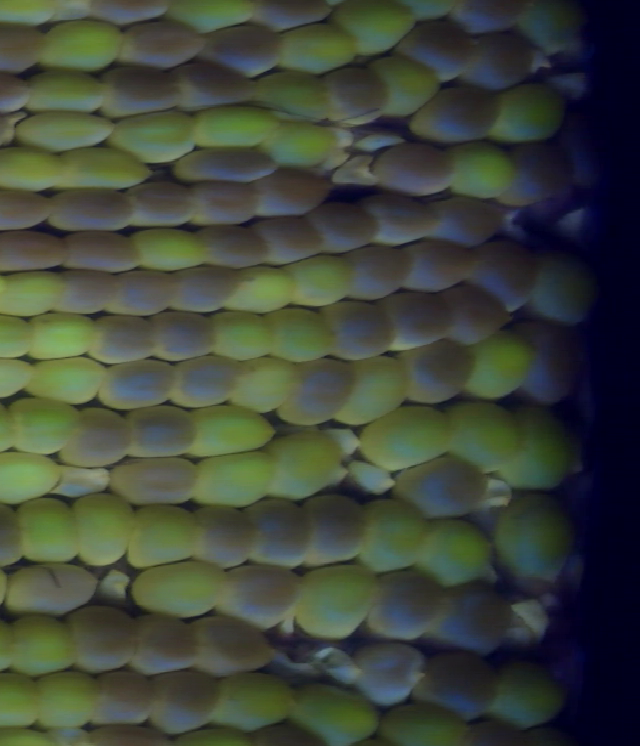fluorescent: (495, 491, 578, 601), (290, 558, 384, 646), (355, 399, 464, 473), (439, 392, 528, 481), (498, 400, 575, 499), (126, 555, 238, 623), (349, 490, 433, 579), (282, 675, 387, 746), (176, 397, 286, 464), (210, 666, 307, 739), (491, 654, 575, 738), (260, 425, 349, 504), (331, 345, 410, 433), (115, 499, 210, 572), (419, 511, 498, 597), (63, 487, 142, 571), (8, 490, 89, 571), (34, 12, 133, 78), (529, 249, 604, 334), (243, 63, 341, 128), (106, 106, 204, 169), (364, 48, 445, 124), (325, 1, 431, 59), (24, 663, 108, 735), (265, 18, 364, 79), (437, 136, 524, 205), (461, 329, 539, 405), (221, 351, 308, 419), (45, 141, 156, 193), (186, 100, 290, 155), (260, 304, 348, 369), (9, 104, 121, 155), (5, 611, 85, 682), (3, 391, 85, 460), (490, 79, 570, 149), (14, 63, 112, 120), (17, 305, 105, 367), (373, 697, 478, 746), (216, 259, 303, 318), (255, 109, 339, 169), (23, 352, 110, 409), (204, 305, 281, 369), (281, 248, 359, 311), (125, 224, 216, 276), (513, 1, 597, 53), (0, 445, 65, 509), (0, 263, 72, 319), (159, 1, 264, 37), (0, 141, 70, 193), (0, 664, 47, 734), (0, 306, 47, 366), (0, 353, 41, 408)
nonfluorescent: (392, 450, 496, 527), (360, 563, 456, 646), (429, 576, 518, 662), (408, 77, 507, 153), (208, 561, 312, 632), (277, 348, 361, 435), (58, 597, 148, 678), (414, 643, 504, 722), (345, 635, 435, 712), (513, 312, 585, 408), (185, 607, 277, 682), (102, 449, 213, 511), (105, 15, 214, 78), (0, 559, 106, 621), (123, 602, 208, 679), (463, 235, 545, 314), (318, 292, 402, 369), (191, 18, 291, 82), (295, 491, 375, 571), (494, 135, 580, 209), (183, 499, 265, 576), (397, 332, 479, 408), (436, 278, 521, 351), (165, 56, 265, 118), (145, 662, 227, 737), (455, 28, 542, 98), (91, 352, 186, 416), (58, 404, 144, 474), (93, 59, 187, 123), (391, 17, 477, 86), (375, 286, 461, 355), (355, 187, 449, 250), (338, 236, 419, 309), (238, 495, 314, 571), (36, 181, 141, 236), (115, 400, 205, 464), (367, 139, 462, 199), (395, 233, 483, 297), (315, 60, 394, 130), (168, 349, 257, 411), (304, 198, 390, 261), (169, 142, 285, 188), (145, 303, 225, 369), (85, 664, 162, 731), (79, 309, 164, 369), (53, 227, 152, 278), (248, 210, 332, 269), (425, 192, 507, 252), (178, 175, 269, 229), (166, 261, 248, 319), (118, 178, 200, 235), (190, 221, 278, 274), (105, 266, 186, 323), (253, 162, 335, 217), (48, 263, 126, 319), (443, 1, 540, 40), (0, 225, 72, 276), (0, 13, 54, 78), (240, 1, 343, 34), (0, 185, 59, 238), (78, 1, 181, 29), (0, 493, 30, 576), (0, 69, 37, 118)
